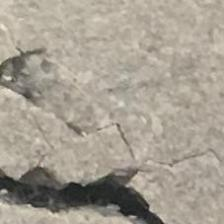Crack: (0, 56, 174, 224)
